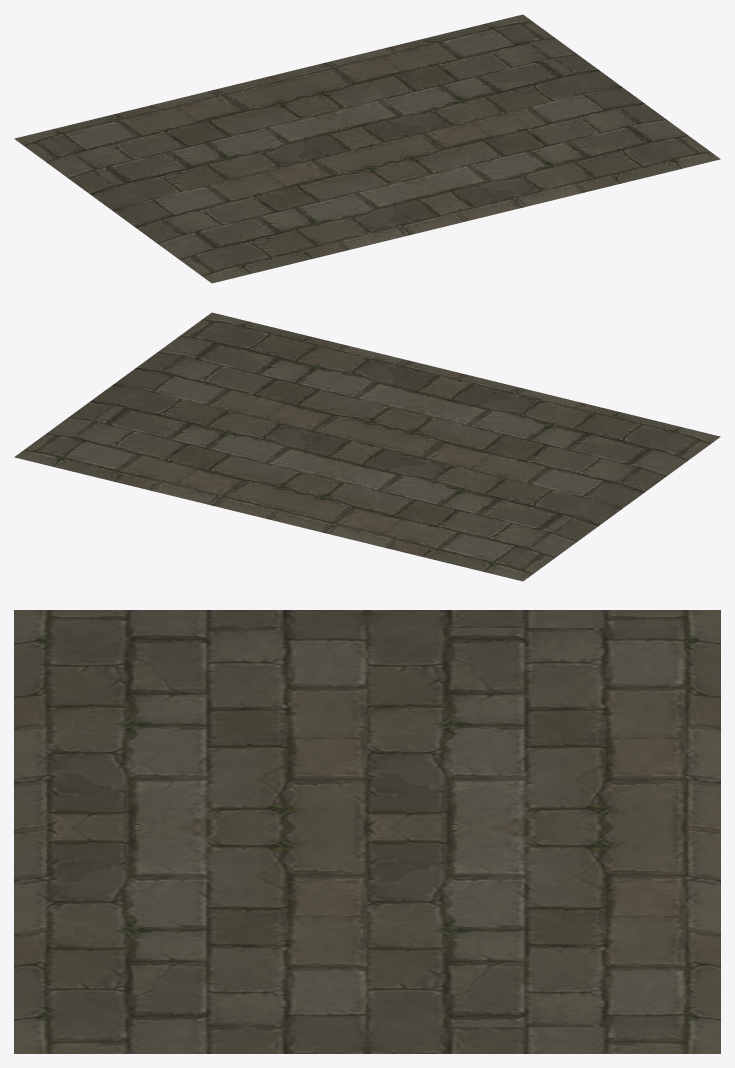
File: s7_3d_shiban.FBX
The picture shows the model from 3 angles, top to bottom: view 1: azimuth 30°, elevation 25°; view 2: azimuth 150°, elevation 25°; view 3: azimuth 270°, elevation 25°; orthographic projection. The views are drawn at different scales.
Visible parts, largest first — view 1: Rectangle004; view 2: Rectangle004; view 3: Rectangle004.
Boxes of the visible parts, x1=… form: Rectangle004: x1=14, y1=14, x2=720, y2=283; Rectangle004: x1=14, y1=312, x2=720, y2=581; Rectangle004: x1=14, y1=610, x2=720, y2=1053.
Bounding box in the file's own units: 1188 × 5.59 × 800.
